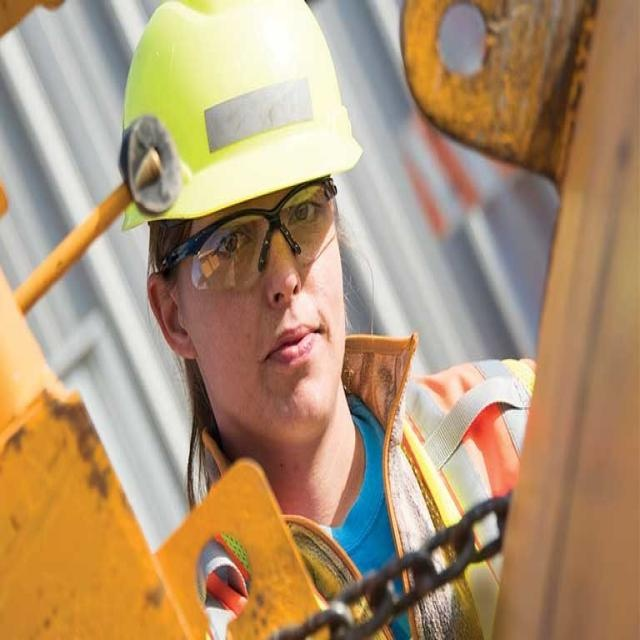goggles: (301, 169, 497, 309)
helmet: (275, 0, 559, 214)
vest: (99, 352, 432, 640)
